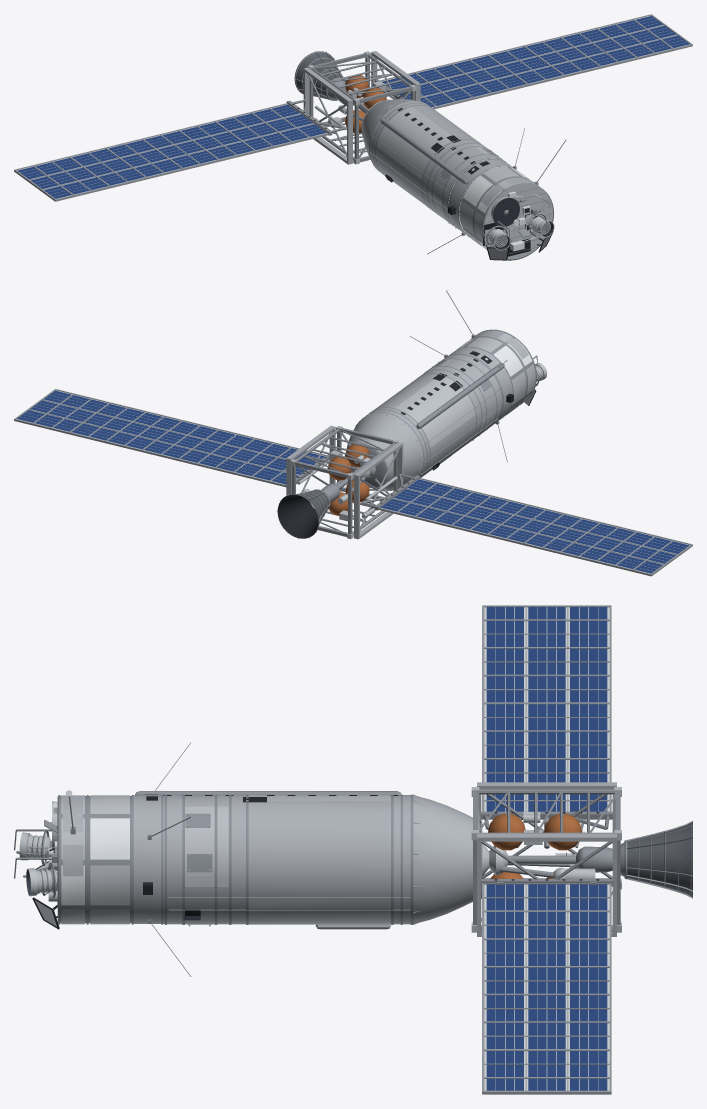
Rendered from sert-2.glb.
3 views of the same model, one above another, from view 1: azimuth 30°, elevation 25°; view 2: azimuth 150°, elevation 25°; view 3: azimuth 270°, elevation 25° (orthographic). The views are drawn at different scales.
Visible parts, largest first — view 1: body, solar-panel, foil; view 2: body, solar-panel; view 3: body, solar-panel.
Boxes of the visible parts, x1,y1,x2,y2 form: body: (14,14,692,260); solar-panel: (17,16,689,202); foil: (485,201,550,259); body: (14,290,692,576); solar-panel: (17,390,689,573); body: (14,605,692,1094); solar-panel: (486,607,607,1090).
Bounding box in the file's own units: 13.56 × 2.44 × 8.
